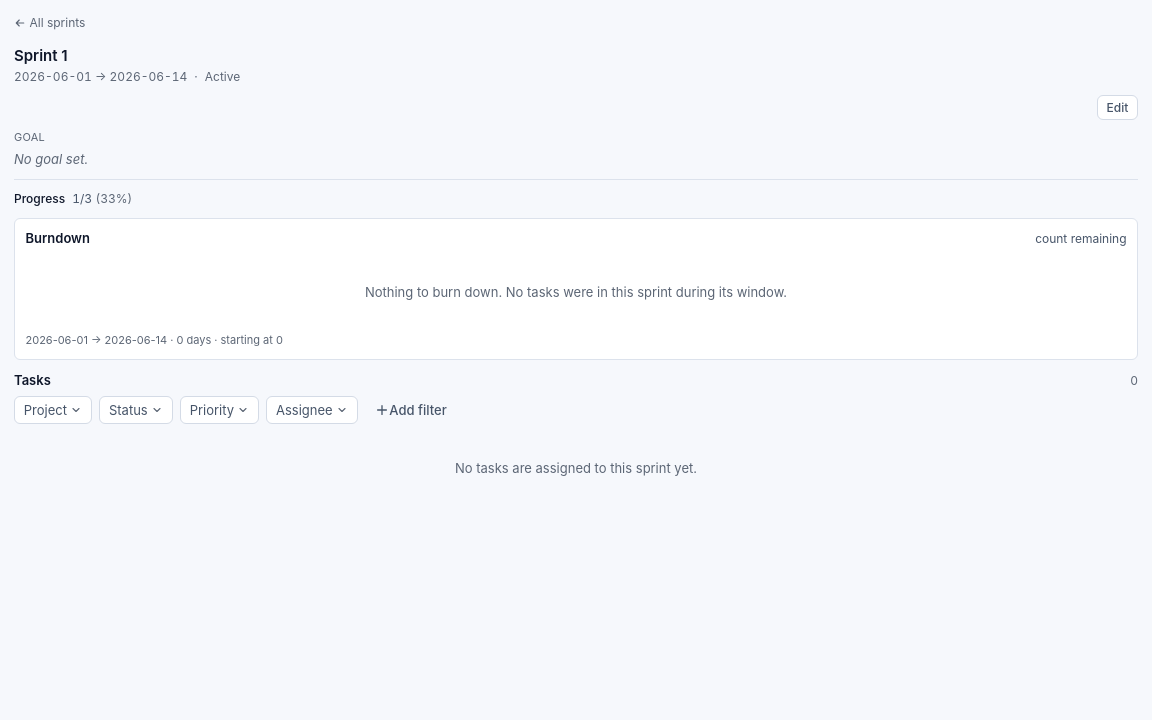
Test case: SprintDetail — titled header fold (Ken 2026-09-20) › still offers all five editable fields when the read meta is folded
The width and height of the screenshot is (1152, 720).
Click the button with test id "sprint-meta-edit" at (1117, 108), box [1097,95,1138,120]
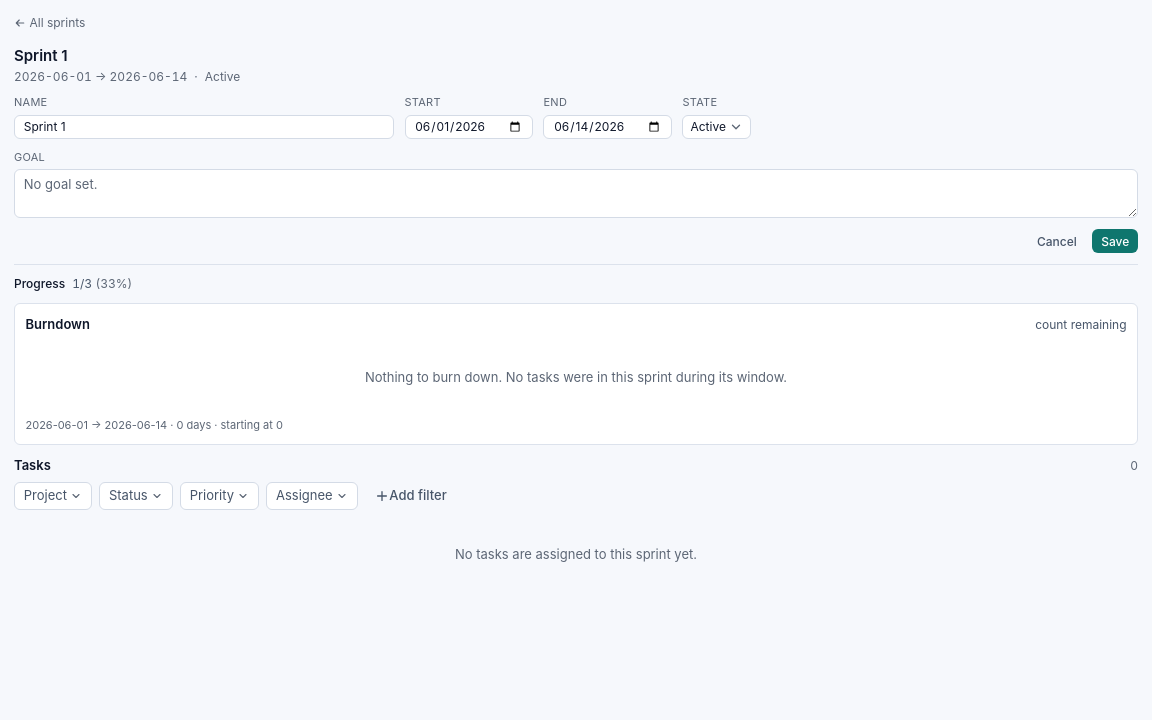
Result: the field with test id "sprint-meta-name" is shown at [14,115,394,139]
Result: the date field with test id "sprint-meta-start_date" is shown at [404,115,533,139]
Result: the date field with test id "sprint-meta-end_date" is shown at [544,115,672,139]
